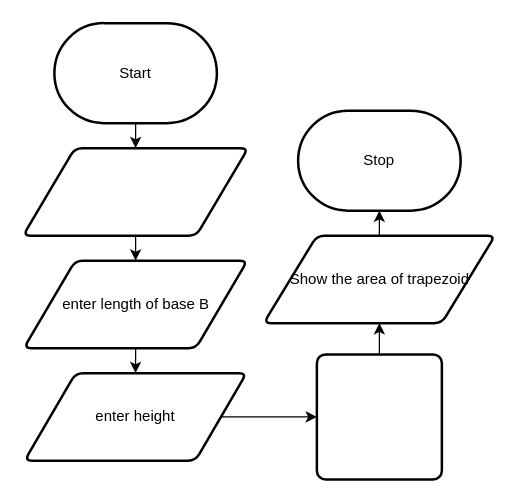
This 518x501 diagram has some shape labels left out. Each missing label, with the box of its shape:
A = ((a+b) / 2) * h: (315, 352, 442, 480)
enter length of base A: (21, 146, 249, 236)
